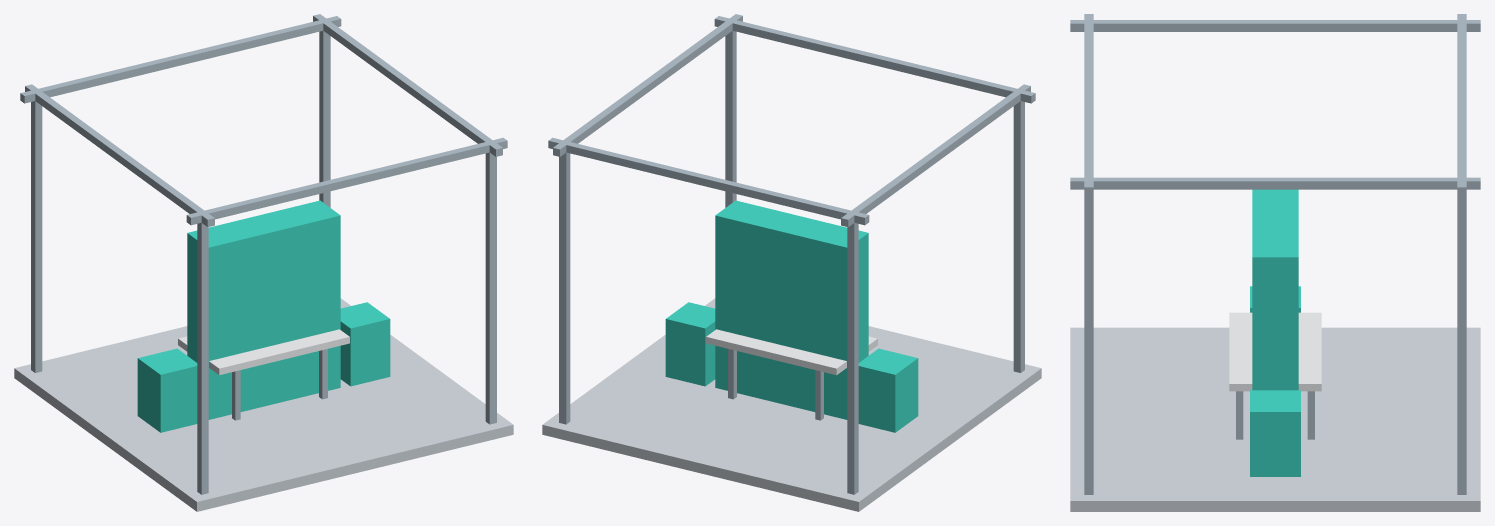
3 views of the same model, side by side, from view 1: azimuth 30°, elevation 25°; view 2: azimuth 150°, elevation 25°; view 3: azimuth 270°, elevation 25° (orthographic). The views are drawn at different scales.
Parts seen in each view (by area): view 1: Exhibition Booth Concept; view 2: Exhibition Booth Concept; view 3: Exhibition Booth Concept.
Boxes of the visible parts, x1,y1,x2,y2 form: Exhibition Booth Concept: (14, 14, 513, 511); Exhibition Booth Concept: (542, 14, 1041, 511); Exhibition Booth Concept: (1070, 14, 1480, 511).
Size of the model in its own units: 4 by 3.49 by 4.
